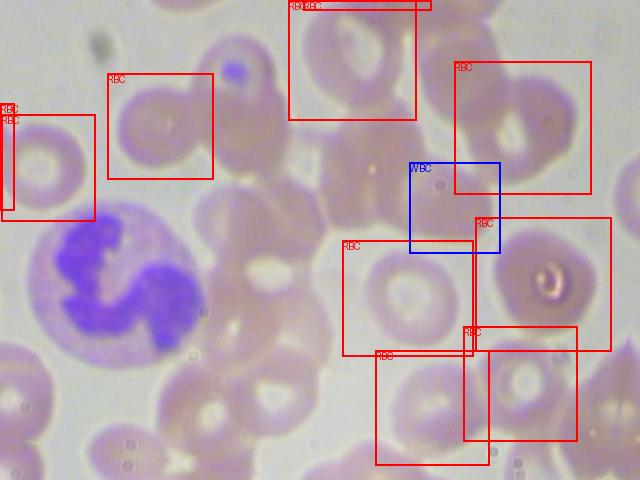RBC: (475, 217, 611, 351), (454, 61, 591, 194), (288, 0, 416, 120), (342, 240, 473, 356), (375, 350, 489, 465), (463, 326, 577, 441), (107, 73, 213, 179), (1, 114, 95, 221), (0, 103, 14, 210), (303, 0, 431, 10)
WBC: (409, 162, 500, 253)
